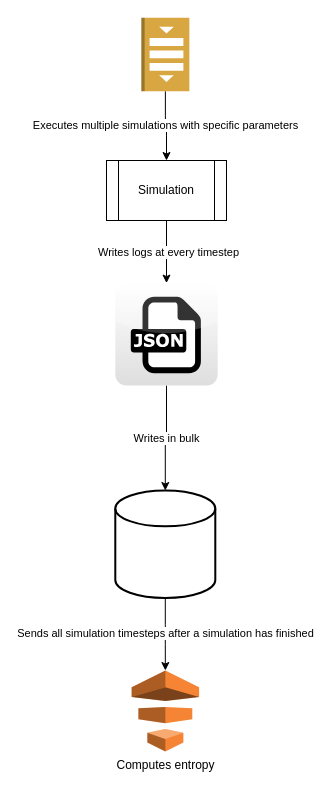
The diagram is 331 pixels wide and 790 high, and some of its shapes have lost their labels. The shapes that lost their labels are listed below. From the top down, each one's centre as x and y in pixels, then its label:
pixel 166 334: In-memory model of the current state of the simulation
pixel 165 543: Stores all simulation data
